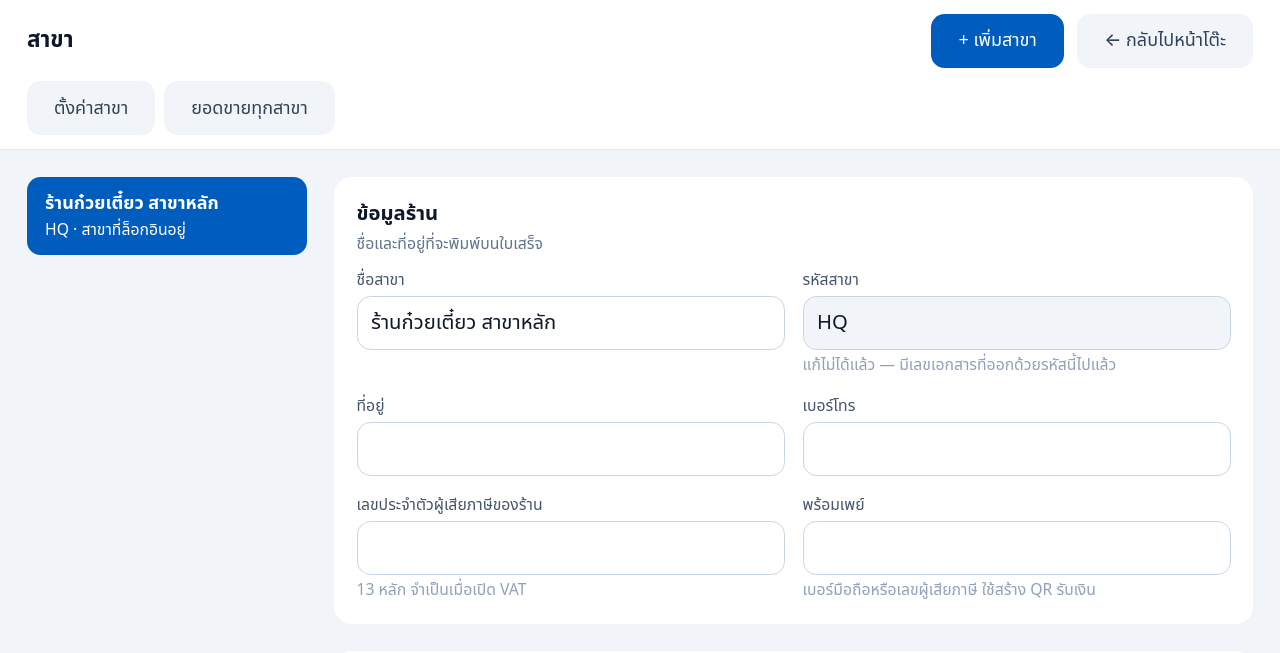
Test: adding a shop › asks for the first owner and a PIN in the same form
The width and height of the screenshot is (1280, 653).
Check: the heading "ข้อมูลร้าน" is shown, box [356,199,438,229]
Click the button "+ เพิ่มสาขา" at (998, 40), box [932,14,1064,68]
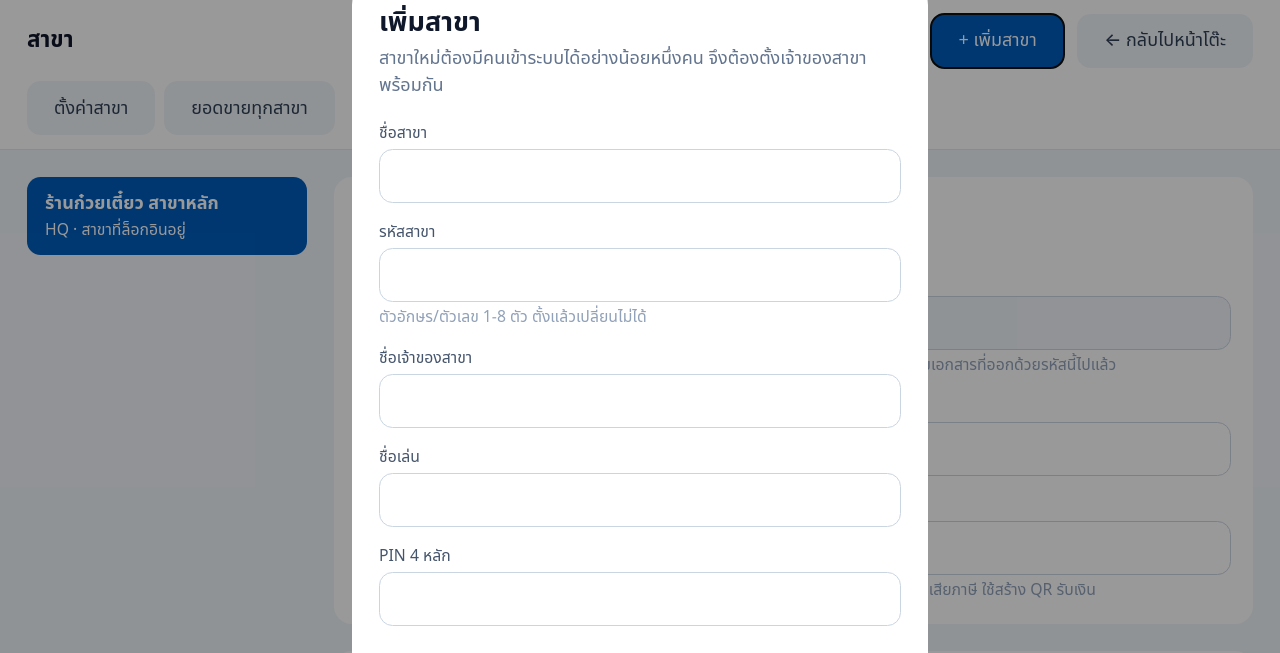
Check: the field labelled "ชื่อเจ้าของสาขา" is shown, box [379,374,901,428]
Check: the field labelled "PIN 4 หลัก" is shown, box [379,572,901,626]
